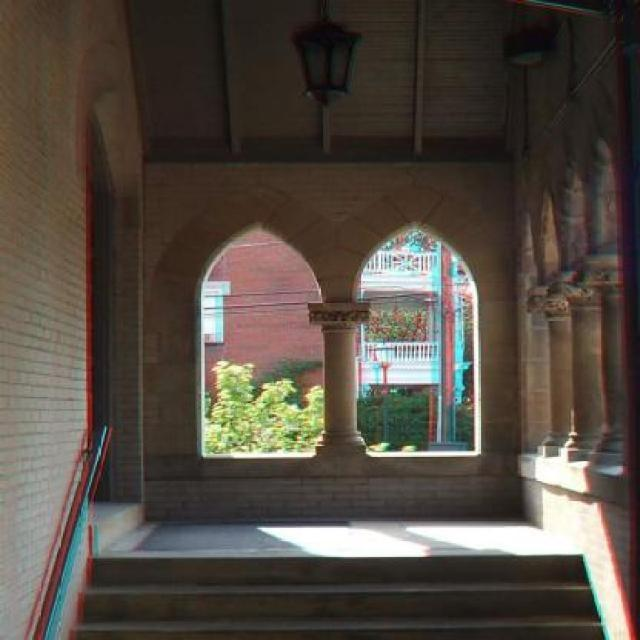stair: (64, 549, 610, 640), (90, 496, 164, 554)
